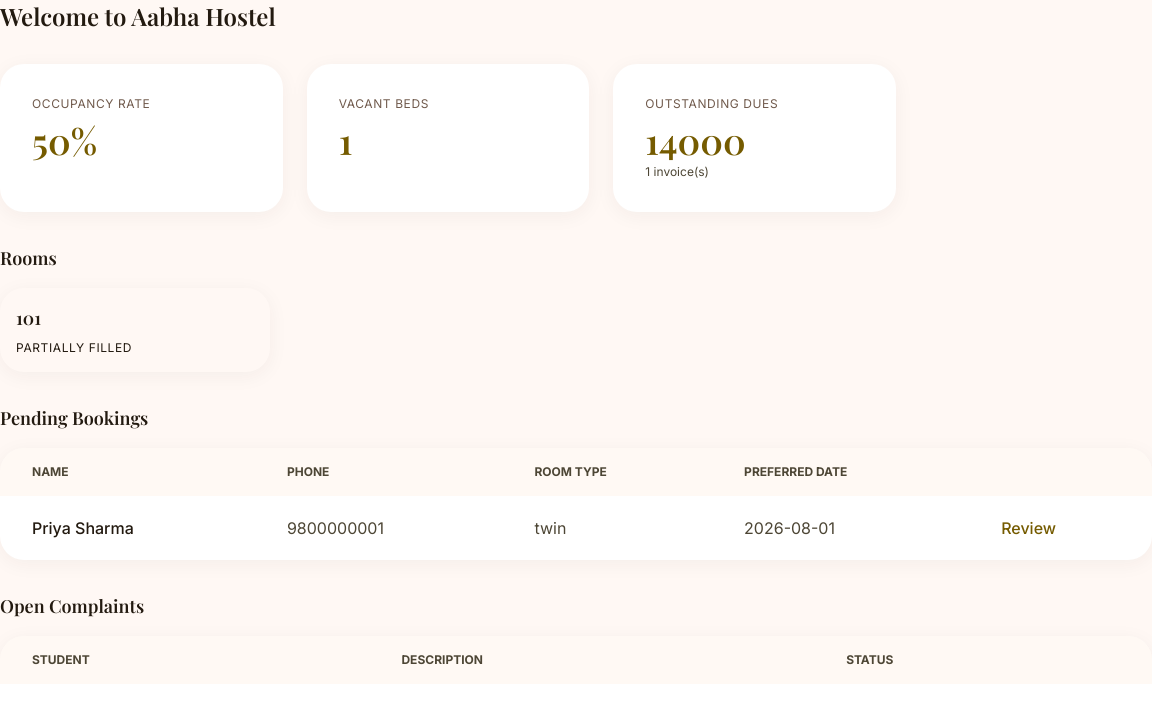
Test: OwnerDashboard › toggles the defaulter list when the dues card is clicked
expect the text "14000" is shown: met, box [645, 116, 746, 164]
expect the text "Anjali" is not shown: met
Click the text "Outstanding Dues".
click(712, 104)  # box [645, 96, 778, 111]
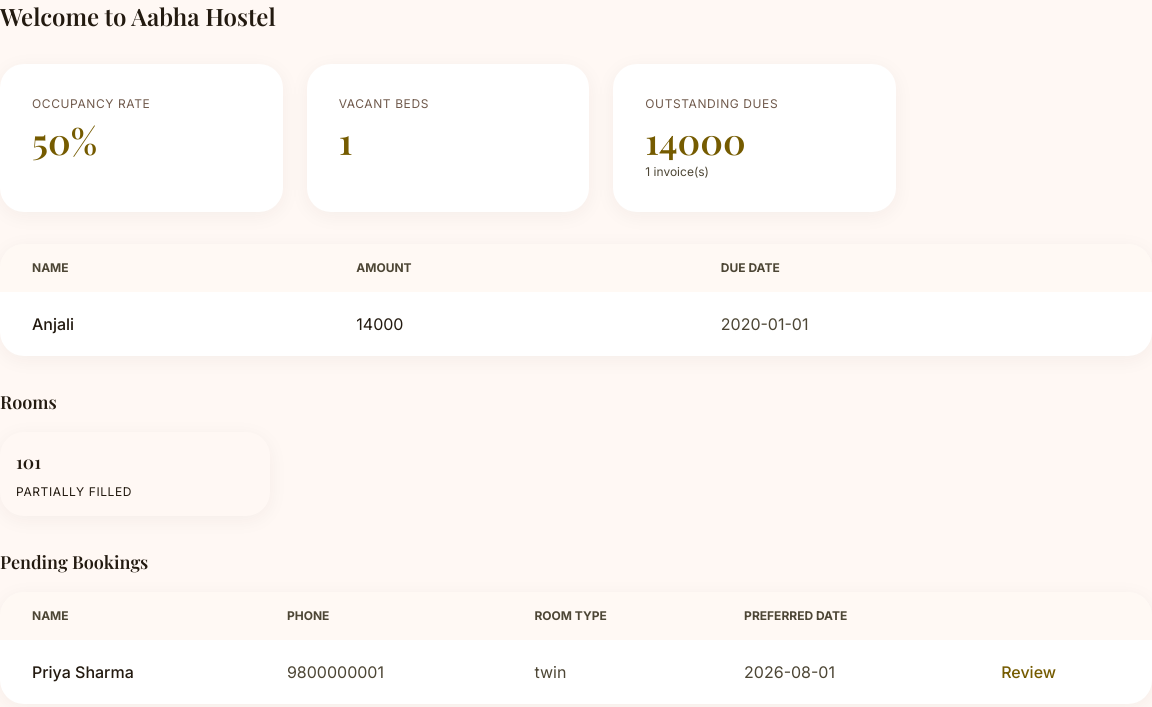
expect the text "Anjali" is shown: met, box [0, 292, 324, 356]
